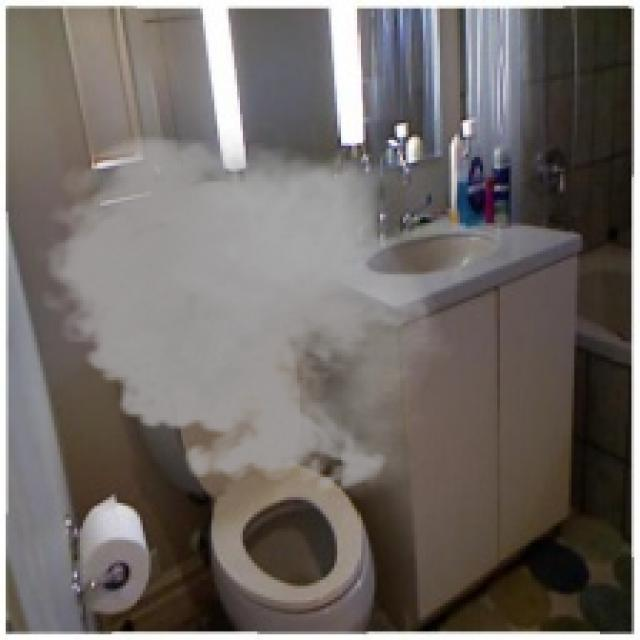Smoke: (32, 123, 454, 503)
